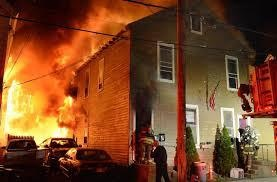fire: (0, 49, 76, 148)
